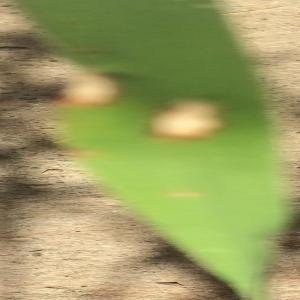Rice_Blast: (138, 74, 231, 146), (42, 51, 131, 115)
